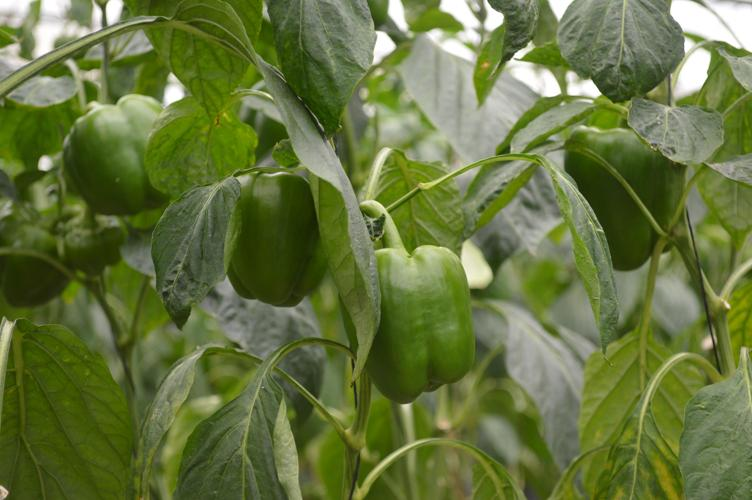BellPepper: (364, 242, 478, 401), (565, 126, 689, 266), (223, 172, 329, 313), (64, 97, 165, 211), (7, 213, 73, 297), (59, 218, 123, 268)
